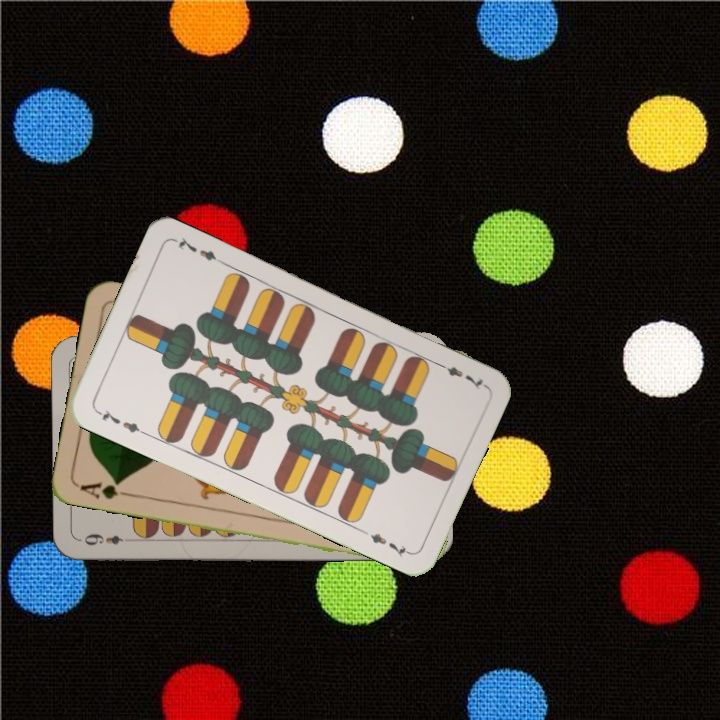E7: (432, 358, 488, 393), (92, 405, 148, 437)
E9: (80, 529, 126, 548)
GA: (76, 476, 134, 502)
